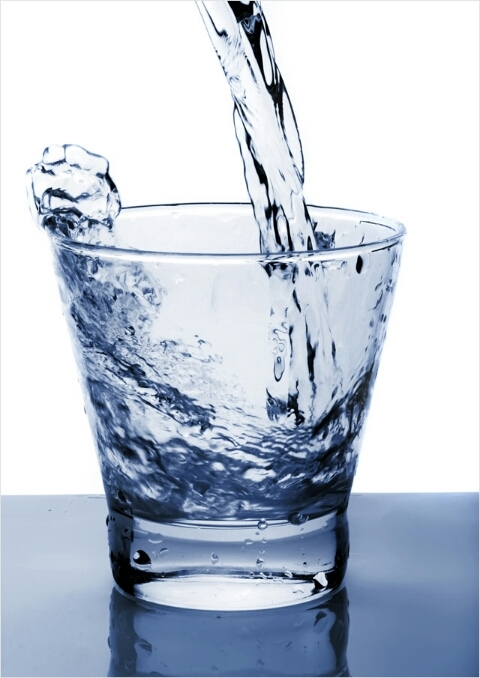glass of water: (22, 125, 426, 627)
